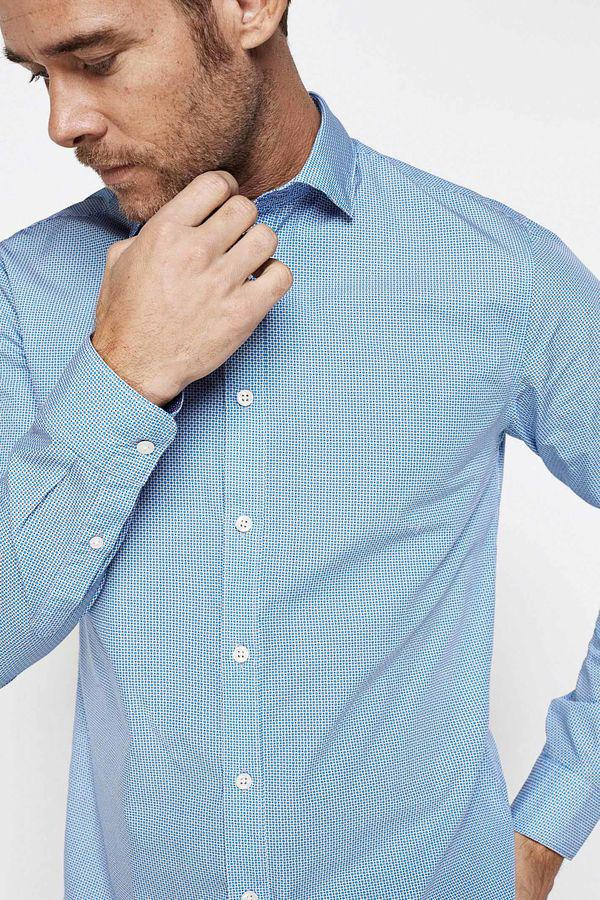teeshirt: (1, 136, 600, 893)
